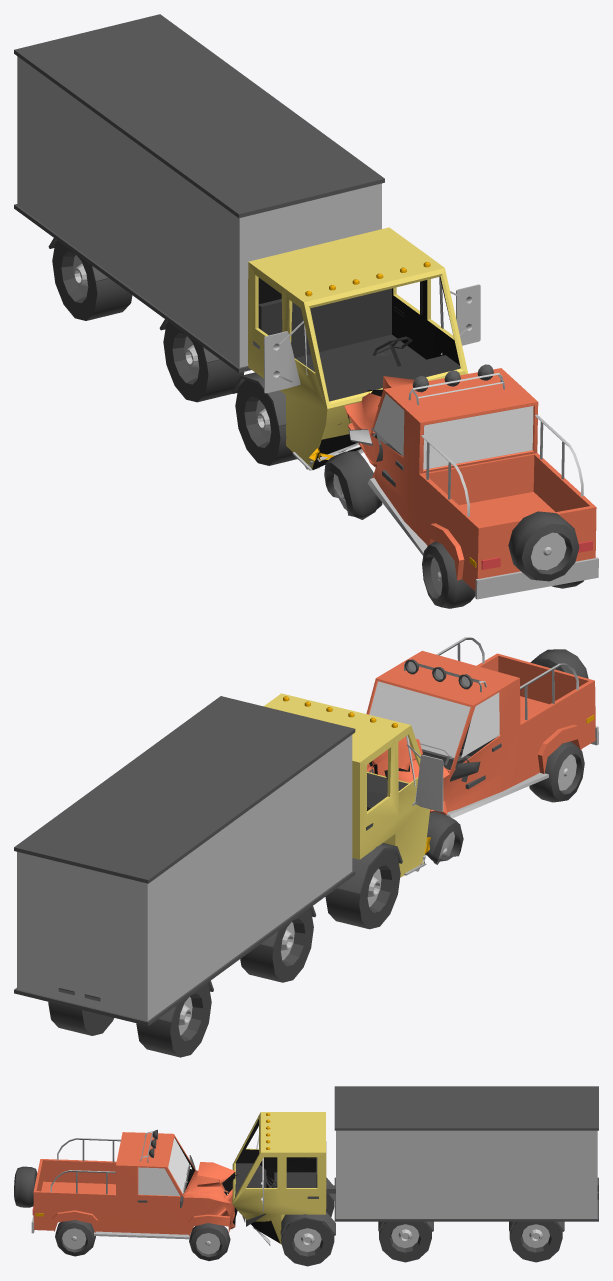
The model's file is CrashHood03.fbx.
3 renders of one model, top to bottom at view 1: azimuth 30°, elevation 25°; view 2: azimuth 150°, elevation 25°; view 3: azimuth 270°, elevation 25°, orthographic. The views are drawn at different scales.
Visible parts, largest first — view 1: Truck_body, Hood.001, Hood, Seat, Glass.001, Wheel_back_right, Wheel_mid_right, Wheel_front_right, Wheel_front_left.001, Wheel_back_left.001, Bord; view 2: Truck_body, Hood.001, Hood, Glass.001, Wheel_front_right, Wheel_back_right, Wheel_mid_right, Wheel_back_left.001, Wheel_front_left.001, Wheel_back_left, Bord; view 3: Truck_body, Hood.001, Hood, Wheel_front_left, Wheel_back_left, Wheel_mid_left, Glass.001, Wheel_front_right.001, Wheel_back_right.001, Bord, Seat.
Part boxes in pixels (box(x1,y1,x2,y2)): Truck_body: box(14, 14, 384, 372); Hood.001: box(344, 364, 598, 599); Hood: box(231, 227, 480, 470); Seat: box(258, 288, 425, 383); Glass.001: box(374, 394, 533, 469); Wheel_back_right: box(52, 240, 132, 320); Wheel_mid_right: box(163, 322, 244, 402); Wheel_front_right: box(235, 380, 296, 465); Wheel_front_left.001: box(324, 451, 382, 519); Wheel_back_left.001: box(422, 541, 475, 608); Bord: box(326, 355, 460, 401); Truck_body: box(14, 696, 355, 1025); Hood.001: box(366, 637, 598, 818); Hood: box(264, 693, 443, 893); Glass.001: box(369, 681, 499, 757); Wheel_front_right: box(325, 849, 400, 929); Wheel_back_right: box(136, 983, 211, 1057); Wheel_mid_right: box(240, 908, 313, 982); Wheel_back_left.001: box(529, 741, 584, 802); Wheel_front_left.001: box(425, 811, 463, 864); Wheel_back_left: box(48, 1002, 113, 1035); Bord: box(367, 773, 408, 810); Truck_body: box(334, 1086, 598, 1231); Hood.001: box(14, 1129, 238, 1239); Hood: box(232, 1112, 335, 1245); Wheel_front_left: box(281, 1219, 334, 1266); Wheel_back_left: box(509, 1221, 562, 1262); Wheel_mid_left: box(379, 1221, 431, 1262); Glass.001: box(138, 1138, 189, 1195); Wheel_front_right.001: box(189, 1223, 230, 1260); Wheel_back_right.001: box(55, 1220, 95, 1256); Bord: box(235, 1163, 266, 1226); Seat: box(274, 1157, 317, 1187).
Bounding box in the file's own units: 80.79 × 83.89 × 322.
